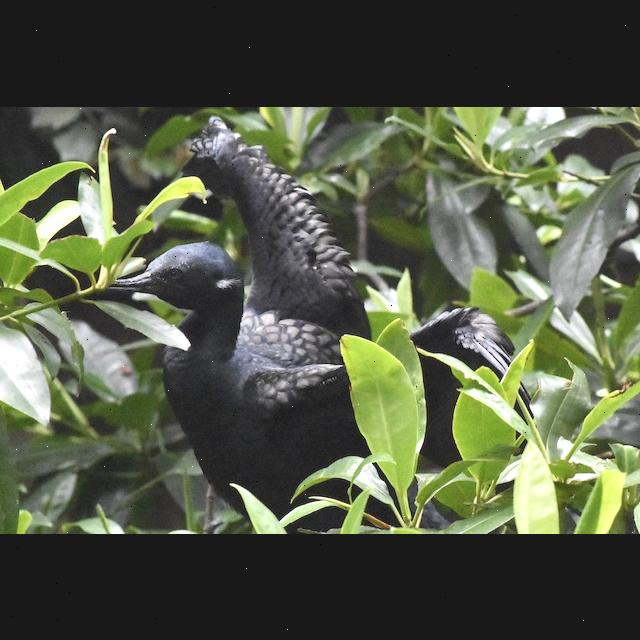cormorant: (103, 106, 531, 524)
